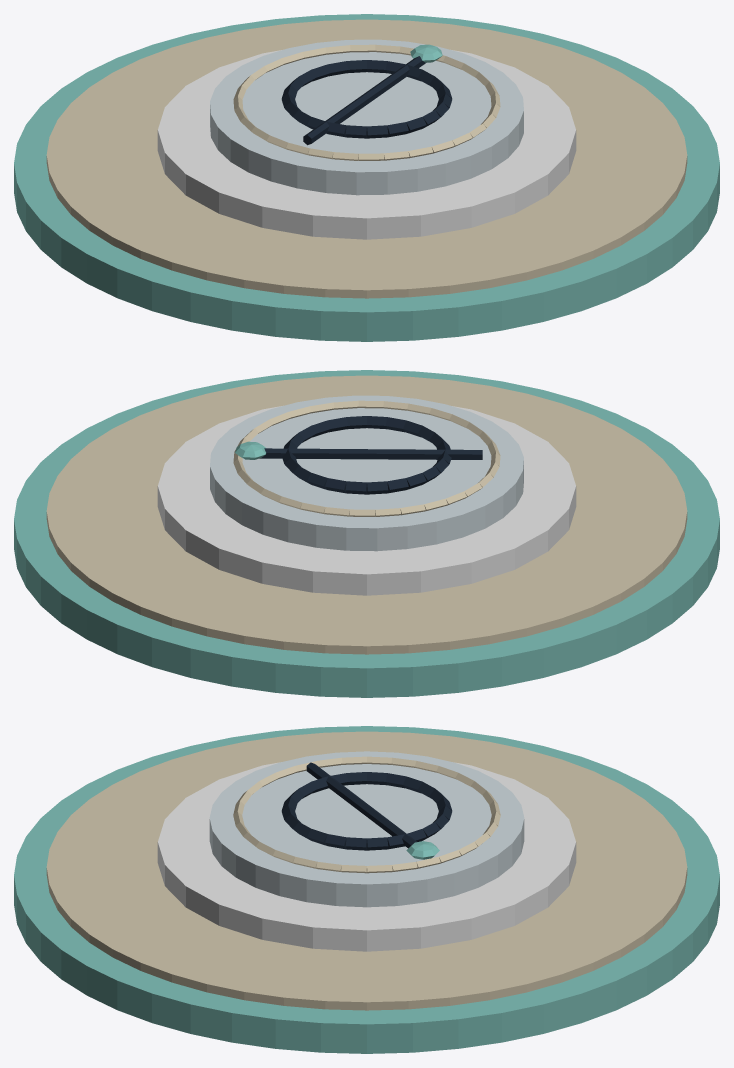
File: space_merchant.glb
3 renders of one model, top to bottom at view 1: azimuth 30°, elevation 25°; view 2: azimuth 150°, elevation 25°; view 3: azimuth 270°, elevation 25°, orthographic.
Visible parts, largest first — view 1: FixedDetails, BrassTrim, WoodBody; view 2: FixedDetails, BrassTrim, WoodBody; view 3: FixedDetails, BrassTrim, WoodBody.
Boxes of the visible parts, x1=… form: FixedDetails: x1=14, y1=14, x2=719, y2=341; BrassTrim: x1=210, y1=39, x2=523, y2=195; WoodBody: x1=157, y1=49, x2=576, y2=239; FixedDetails: x1=14, y1=370, x2=719, y2=697; BrassTrim: x1=210, y1=395, x2=523, y2=551; WoodBody: x1=157, y1=405, x2=576, y2=595; FixedDetails: x1=14, y1=726, x2=719, y2=1053; BrassTrim: x1=209, y1=751, x2=524, y2=907; WoodBody: x1=157, y1=762, x2=576, y2=951.
Bounding box in the file's own units: 0.4 × 0.0645 × 0.4.
